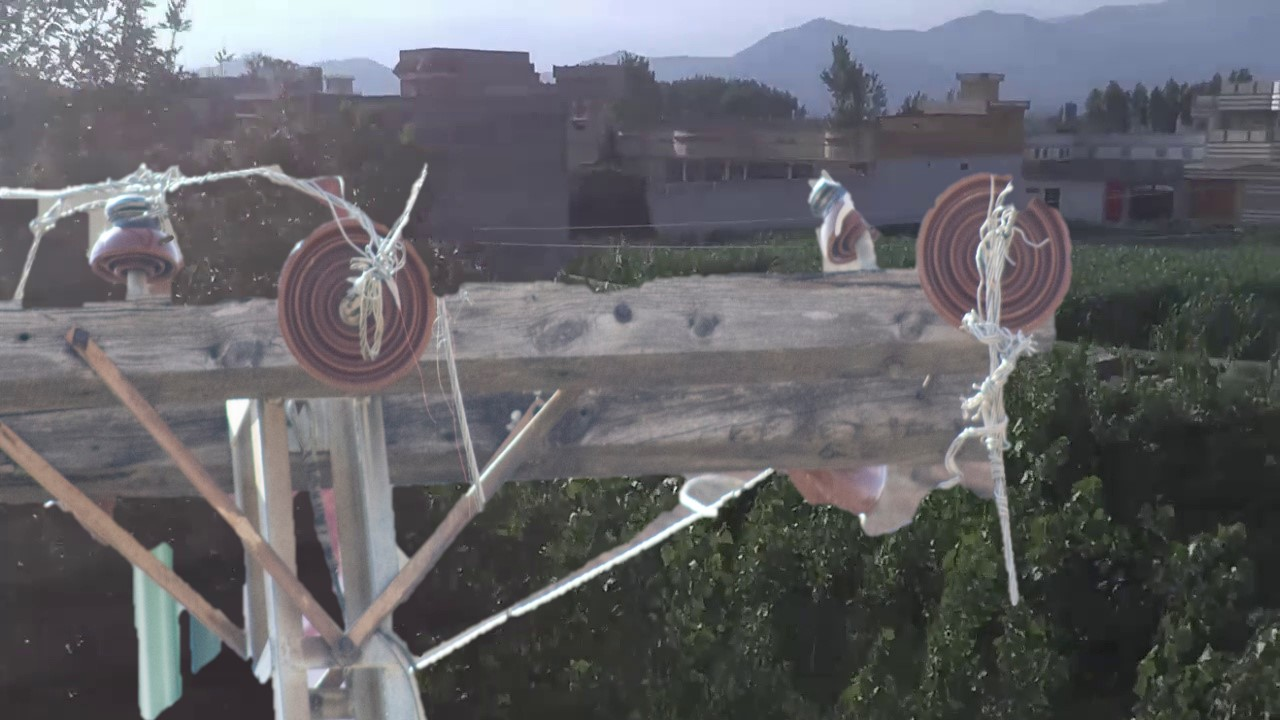defect_pin: (800, 166, 884, 278)
insulator_disc: (274, 210, 440, 405), (914, 166, 1076, 340)
insulator_pin: (83, 189, 188, 287)
